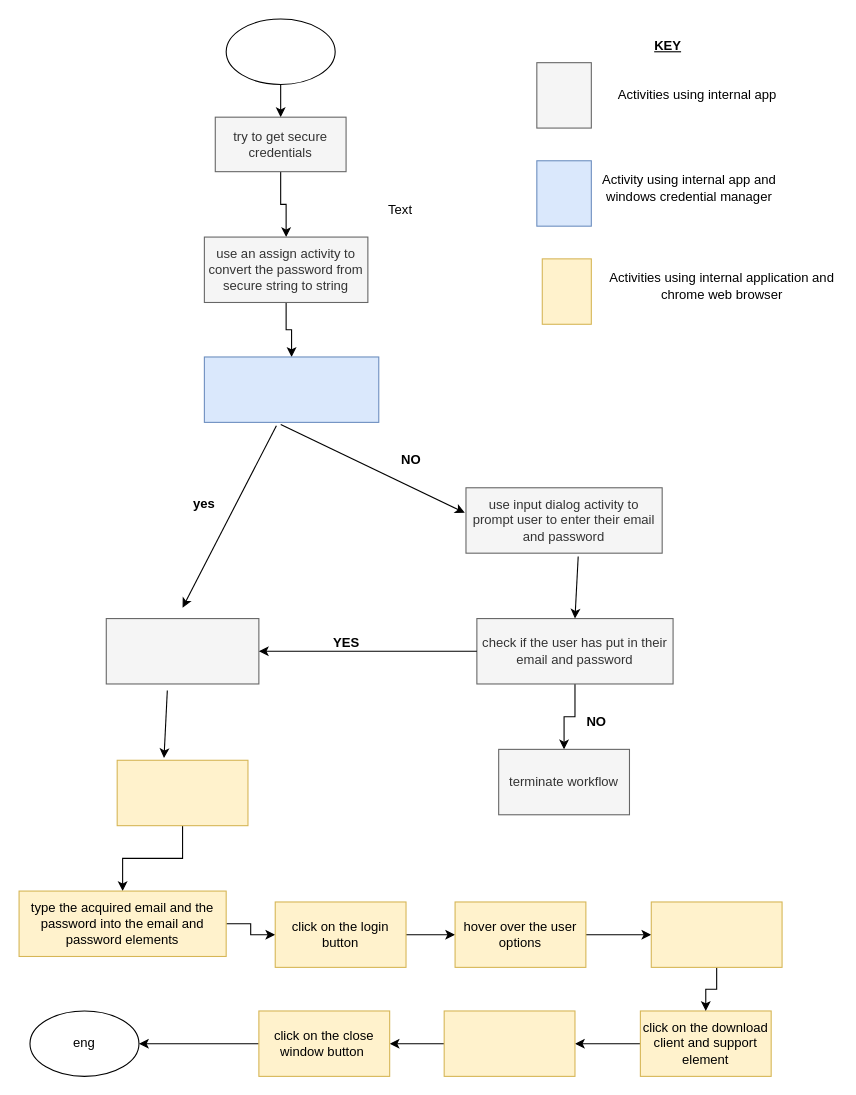
Some shapes in this 856 by 1095 pixel diagram are drawn without their labels. Each missing label, with the centre of its shape:
Check if credentials are saved on the windows credentials manager: the point at 291,389
click on the download button at the legacy system: the point at 716,934
click on the logout button: the point at 509,1043
invoke the login workflow: the point at 182,650
open ACME page on google chrome: the point at 182,792
Start: the point at 280,51
